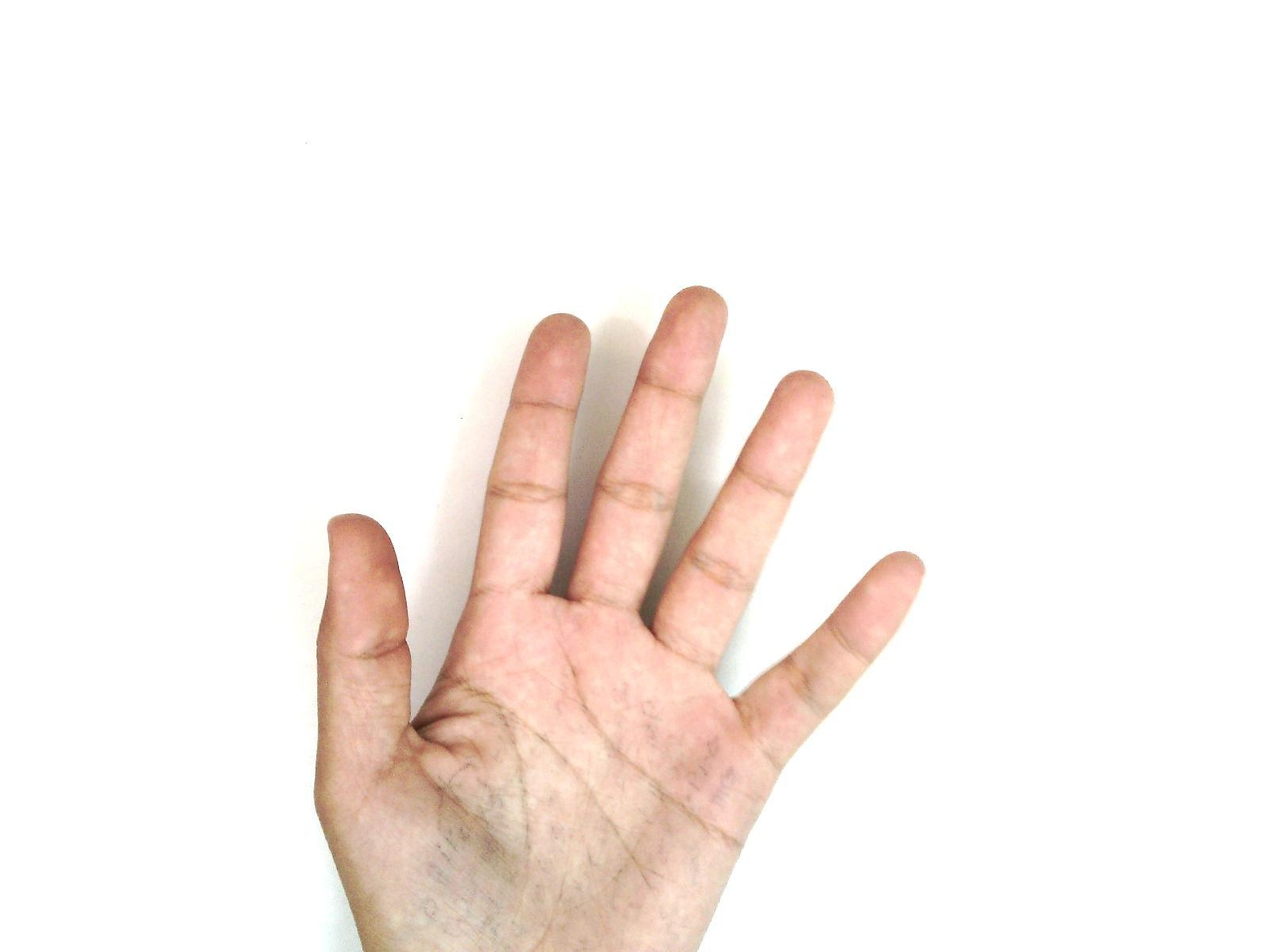open_palm: (310, 285, 928, 951)
